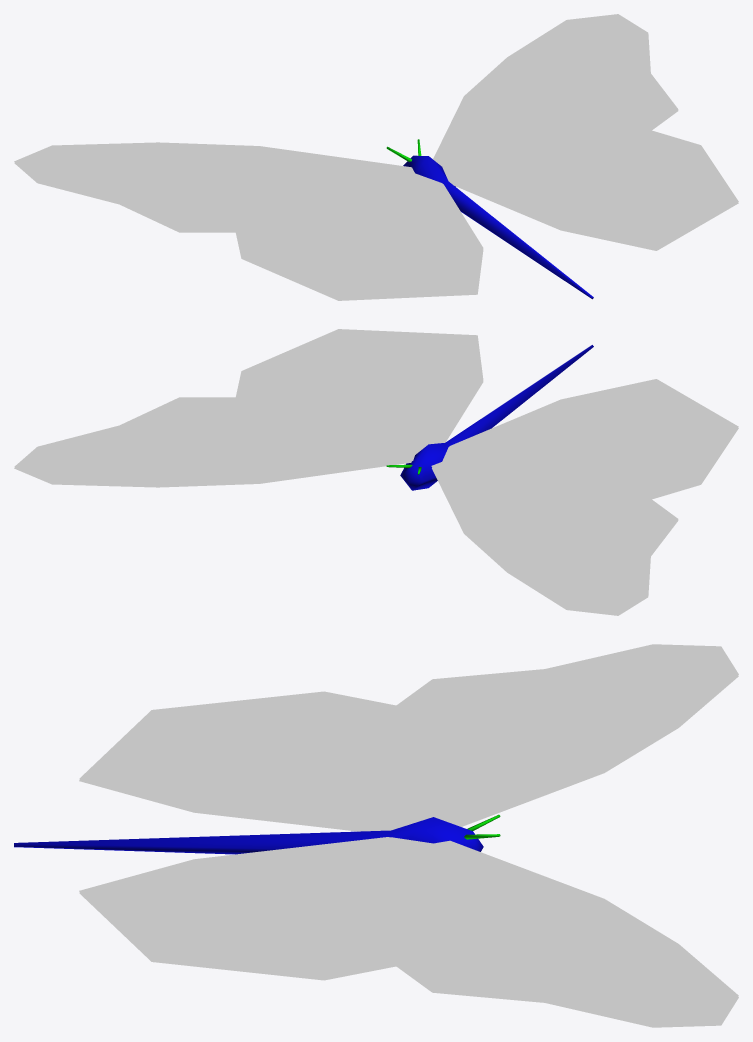
Rendered from butterfly.fbx.
3 views of the same model, one above another, from view 1: azimuth 30°, elevation 25°; view 2: azimuth 150°, elevation 25°; view 3: azimuth 270°, elevation 25° (orthographic). The views are drawn at different scales.
Parts seen in each view (by area): view 1: butterfly_Wing.R.LOD0, butterfly_Wing.L.LOD0, butterfly_LOD0; view 2: butterfly_Wing.L.LOD0, butterfly_Wing.R.LOD0, butterfly_LOD0; view 3: butterfly_Wing.L.LOD0, butterfly_Wing.R.LOD0, butterfly_LOD0.
Boxes of the visible parts, left/top/right/bottom form: butterfly_Wing.R.LOD0: left=14, top=142, right=483, bottom=300; butterfly_Wing.L.LOD0: left=433, top=14, right=738, bottom=250; butterfly_LOD0: left=386, top=139, right=593, bottom=299; butterfly_Wing.L.LOD0: left=14, top=329, right=483, bottom=487; butterfly_Wing.R.LOD0: left=431, top=379, right=738, bottom=615; butterfly_LOD0: left=386, top=345, right=593, bottom=490; butterfly_Wing.L.LOD0: left=79, top=837, right=738, bottom=1027; butterfly_Wing.R.LOD0: left=79, top=644, right=738, bottom=831; butterfly_LOD0: left=14, top=814, right=500, bottom=854.
Size of what is drawn, in the model's own units: 235 by 16.14 by 189.
